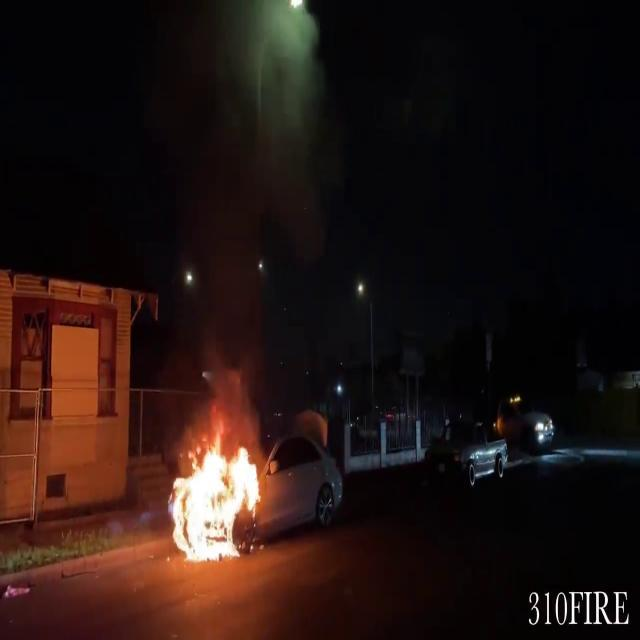Fire: (164, 427, 270, 561)
Smoke: (153, 0, 325, 423)
